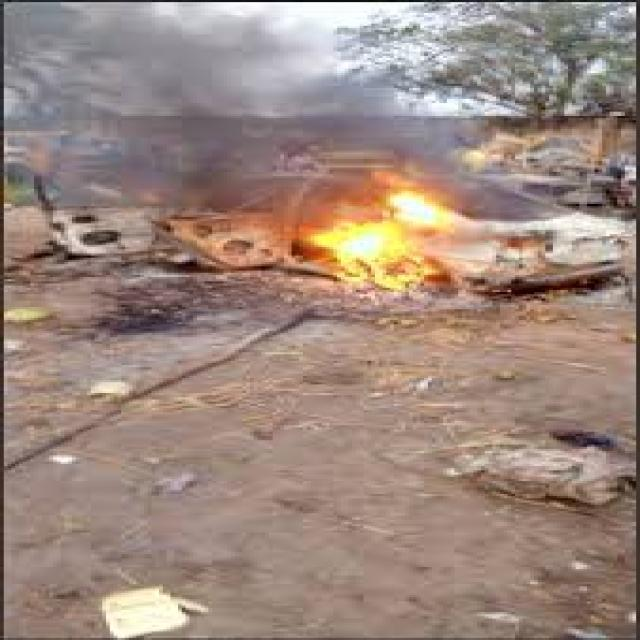Fire: (308, 192, 448, 270)
Smoke: (4, 0, 466, 191)
